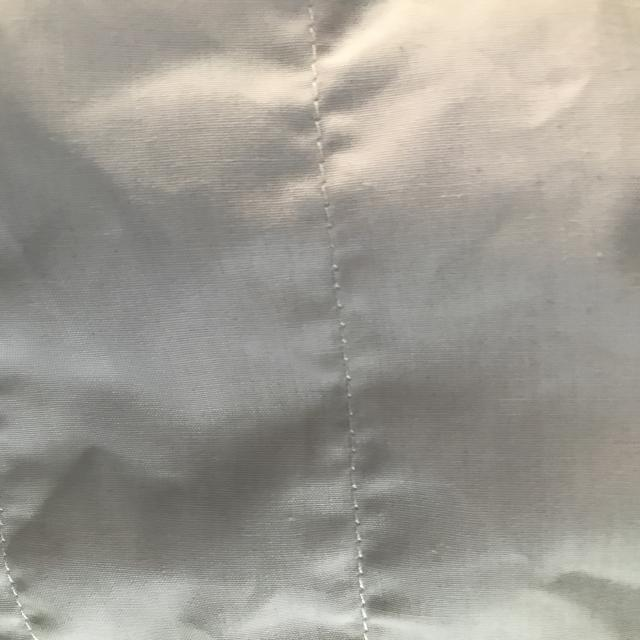good: (284, 97, 362, 232)
